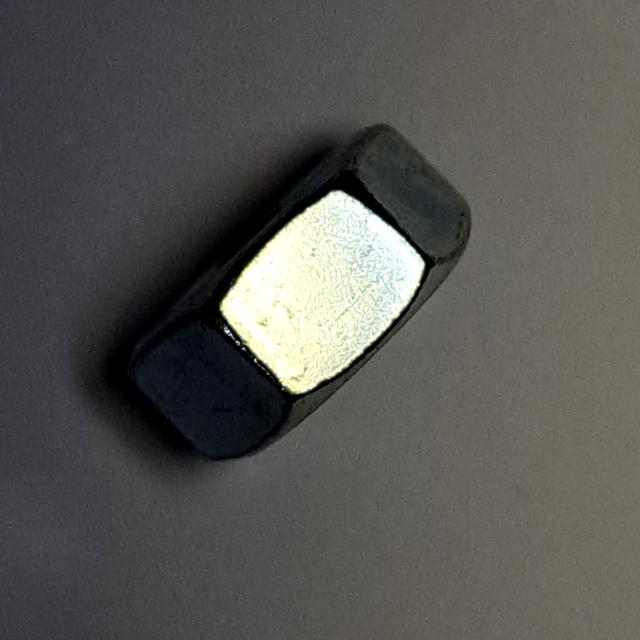Side_Excellent: (104, 111, 486, 477)
